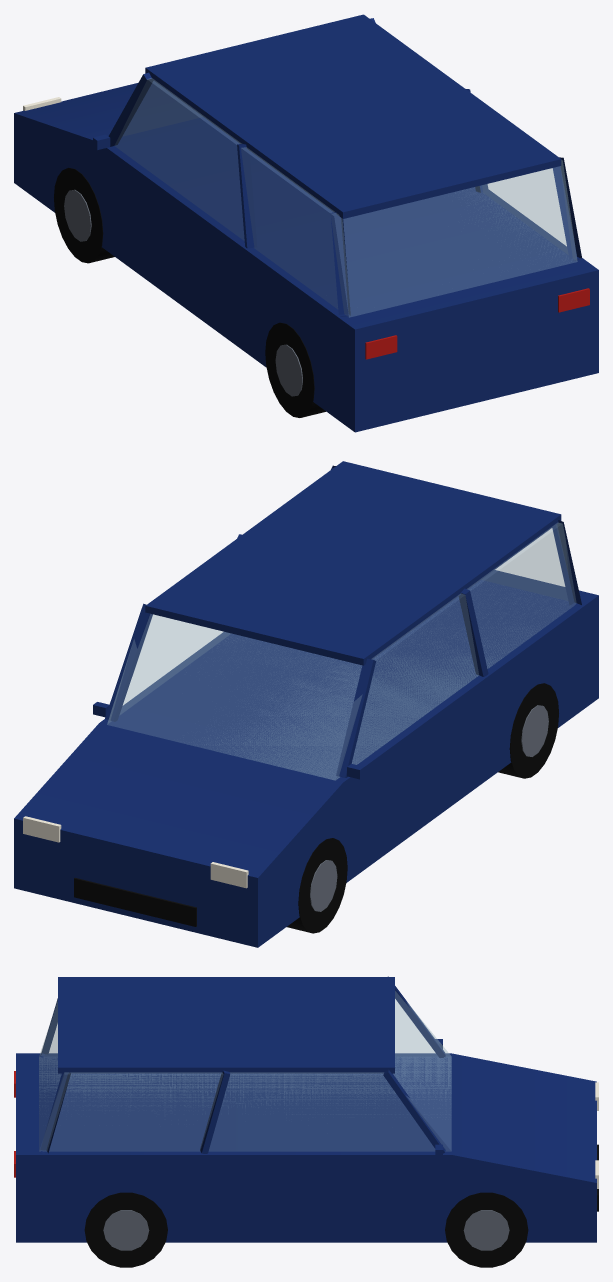
Rendered from vehicle.car.suv_blue.glb.
The picture shows the model from 3 angles, top to bottom: view 1: azimuth 30°, elevation 25°; view 2: azimuth 150°, elevation 25°; view 3: azimuth 270°, elevation 25°; orthographic projection. The views are drawn at different scales.
Parts seen in each view (by area): view 1: main__car_blue, main__glass, main__rubber, main__steel_painted, main__hazard_red; view 2: main__car_blue, main__glass, main__rubber, main__plastic_black, main__steel_painted, main__light_emitter; view 3: main__car_blue, main__glass, main__rubber, main__steel_painted.
Boxes of the visible parts, x1=… form: main__car_blue: x1=14, y1=14, x2=598, y2=432; main__glass: x1=115, y1=78, x2=577, y2=317; main__rubber: x1=54, y1=167, x2=325, y2=417; main__steel_painted: x1=64, y1=189, x2=302, y2=396; main__hazard_red: x1=365, y1=288, x2=589, y2=359; main__car_blue: x1=14, y1=461, x2=598, y2=947; main__glass: x1=107, y1=523, x2=575, y2=780; main__rubber: x1=287, y1=683, x2=558, y2=933; main__plastic_black: x1=74, y1=878, x2=196, y2=926; main__steel_painted: x1=310, y1=705, x2=548, y2=911; main__light_emitter: x1=23, y1=816, x2=248, y2=888; main__car_blue: x1=16, y1=976, x2=596, y2=1242; main__glass: x1=39, y1=991, x2=451, y2=1151; main__rubber: x1=84, y1=1192, x2=528, y2=1267; main__steel_painted: x1=103, y1=1210, x2=509, y2=1250.
Bounding box in the file's own units: 2.08 × 1.7 × 4.63.
